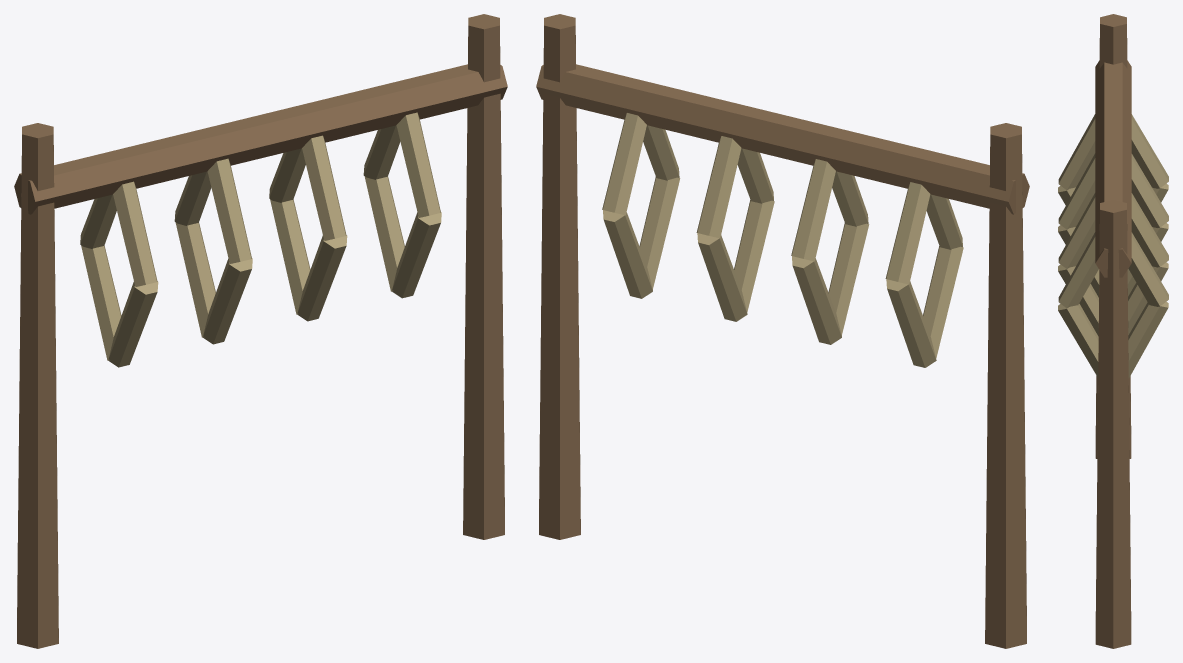
The model's file is map-exclusive-v3__ridge_03.glb.
3 views of the same model, side by side, from view 1: azimuth 30°, elevation 25°; view 2: azimuth 150°, elevation 25°; view 3: azimuth 270°, elevation 25° (orthographic). The views are drawn at different scales.
Visible parts, largest first — view 1: ridge_03; view 2: ridge_03; view 3: ridge_03.
Boxes of the visible parts, x1,y1,x2,y2 form: ridge_03: [14, 14, 507, 648]; ridge_03: [536, 14, 1029, 648]; ridge_03: [1058, 14, 1168, 648].
Bounding box in the file's own units: 1.86 × 1.85 × 0.4289.
